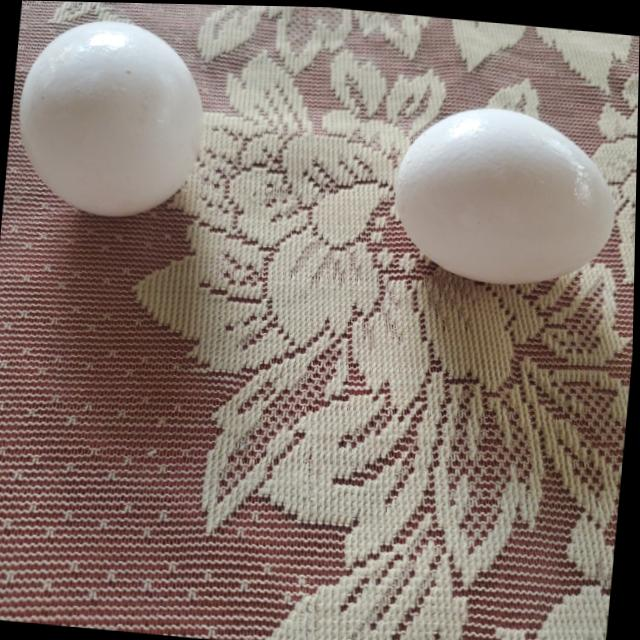egg: (387, 98, 620, 285), (15, 13, 215, 221)
